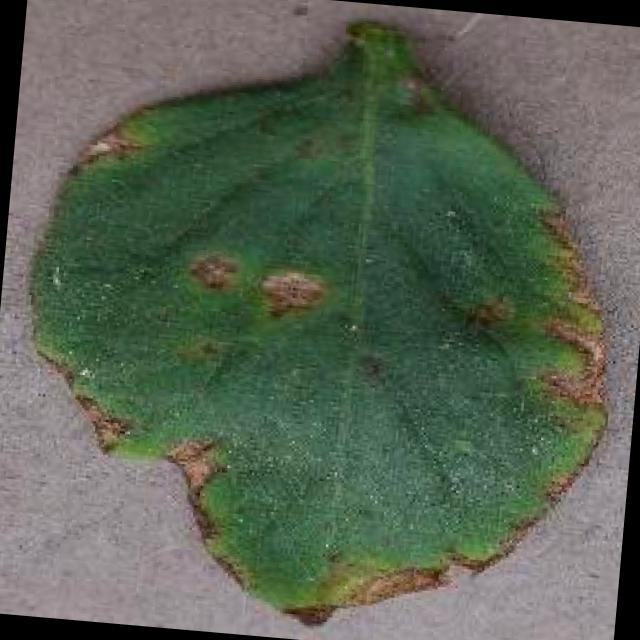Tomato bacterial spot leaf: (0, 42, 638, 640)
